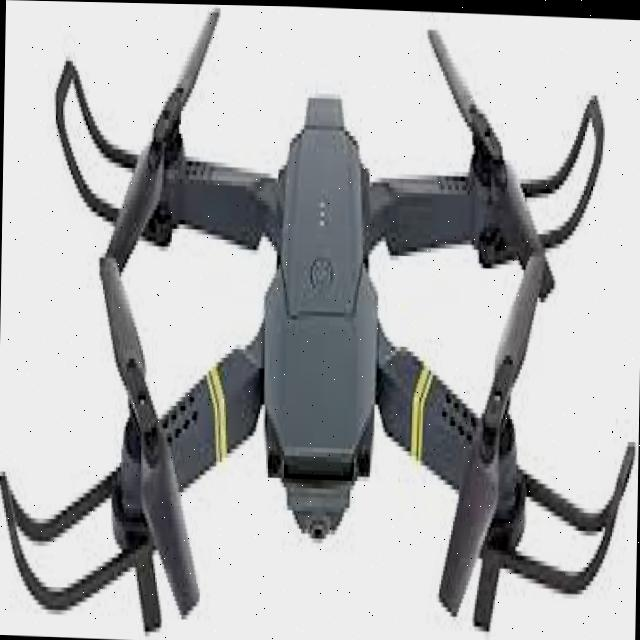drone: (0, 26, 640, 616)
